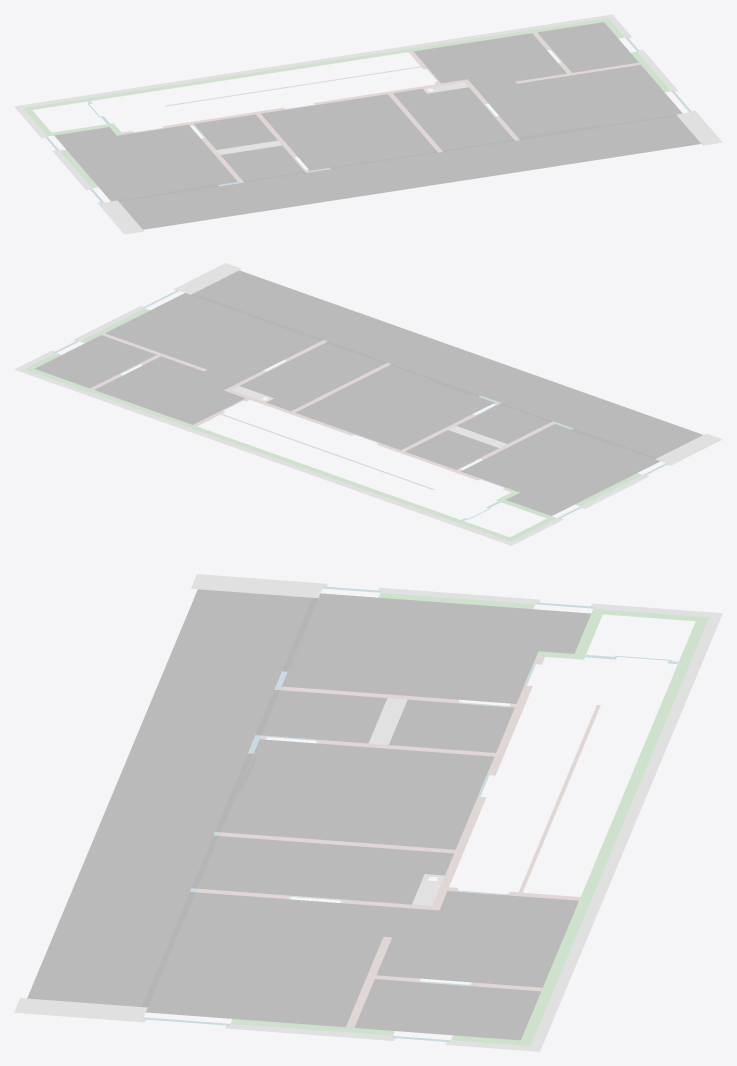
File: floor-496650.glb
The picture shows the model from 3 angles, top to bottom: view 1: azimuth 30°, elevation 25°; view 2: azimuth 150°, elevation 25°; view 3: azimuth 270°, elevation 25°; orthographic projection. The views are drawn at different scales.
Parts seen in each view (by area): view 1: SectionBody_19,de89aea8-538b-4391-9850-51a45f310a7d, SectionBody_28,479ffe48-f63f-4cdc-9a29-5ed8d2618c3d, SectionBody_10,158cad23-91ba-4ef1-ae7e-258570cedbbe, SectionBody_14,beefb470-fe1f-400e-a017-4379c297e920, SectionBody_82,dba8de76-29e1-4d64-a096-d0c128a51ff9, SectionBody_87,0297b300-e6d4-4720-a0ce-df3d1cfc16de, SectionBody_0,5cb63768-c57b-4bab-b736-06cb00baeb3b, SectionBody_41,92661b3a-fcdb-42f5-9150-bac843ed632c, SectionBody_27,92661b3a-fcdb-42f5-9150-bac843ed632c, SectionBody_42,882e43d4-1f59-4184-a4f0-7ba0577b3e58, SectionBody_13,54732cdd-1e45-4bc9-8f35-411170b774ea, SectionBody_4,4ecf0550-45c0-4ded-8eb9-6f0e435f92f0 (+9 smaller); view 2: SectionBody_19,de89aea8-538b-4391-9850-51a45f310a7d, SectionBody_28,479ffe48-f63f-4cdc-9a29-5ed8d2618c3d, SectionBody_10,158cad23-91ba-4ef1-ae7e-258570cedbbe, SectionBody_14,beefb470-fe1f-400e-a017-4379c297e920, SectionBody_82,dba8de76-29e1-4d64-a096-d0c128a51ff9, SectionBody_87,0297b300-e6d4-4720-a0ce-df3d1cfc16de, SectionBody_0,5cb63768-c57b-4bab-b736-06cb00baeb3b, SectionBody_41,92661b3a-fcdb-42f5-9150-bac843ed632c, SectionBody_27,92661b3a-fcdb-42f5-9150-bac843ed632c, SectionBody_13,54732cdd-1e45-4bc9-8f35-411170b774ea, SectionBody_42,882e43d4-1f59-4184-a4f0-7ba0577b3e58, SectionBody_4,4ecf0550-45c0-4ded-8eb9-6f0e435f92f0 (+6 smaller); view 3: SectionBody_19,de89aea8-538b-4391-9850-51a45f310a7d, SectionBody_28,479ffe48-f63f-4cdc-9a29-5ed8d2618c3d, SectionBody_10,158cad23-91ba-4ef1-ae7e-258570cedbbe, SectionBody_14,beefb470-fe1f-400e-a017-4379c297e920, SectionBody_82,dba8de76-29e1-4d64-a096-d0c128a51ff9, SectionBody_87,0297b300-e6d4-4720-a0ce-df3d1cfc16de, SectionBody_0,5cb63768-c57b-4bab-b736-06cb00baeb3b, SectionBody_41,92661b3a-fcdb-42f5-9150-bac843ed632c, SectionBody_27,92661b3a-fcdb-42f5-9150-bac843ed632c, SectionBody_13,54732cdd-1e45-4bc9-8f35-411170b774ea, SectionBody_42,882e43d4-1f59-4184-a4f0-7ba0577b3e58, SectionBody_55,aeb265a0-2cff-4c14-8703-f3e4c57c95e6 (+13 smaller).
Part boxes in pixels (x1=…): SectionBody_19,de89aea8-538b-4391-9850-51a45f310a7d: x1=119, y1=116, x2=700, y2=229; SectionBody_28,479ffe48-f63f-4cdc-9a29-5ed8d2618c3d: x1=477, y1=64, x2=682, y2=138; SectionBody_10,158cad23-91ba-4ef1-ae7e-258570cedbbe: x1=54, y1=124, x2=237, y2=201; SectionBody_14,beefb470-fe1f-400e-a017-4379c297e920: x1=261, y1=94, x2=436, y2=170; SectionBody_82,dba8de76-29e1-4d64-a096-d0c128a51ff9: x1=414, y1=33, x2=566, y2=89; SectionBody_87,0297b300-e6d4-4720-a0ce-df3d1cfc16de: x1=393, y1=87, x2=513, y2=150; SectionBody_0,5cb63768-c57b-4bab-b736-06cb00baeb3b: x1=537, y1=22, x2=638, y2=72; SectionBody_41,92661b3a-fcdb-42f5-9150-bac843ed632c: x1=21, y1=14, x2=614, y2=108; SectionBody_27,92661b3a-fcdb-42f5-9150-bac843ed632c: x1=30, y1=18, x2=610, y2=109; SectionBody_42,882e43d4-1f59-4184-a4f0-7ba0577b3e58: x1=194, y1=114, x2=277, y2=149; SectionBody_13,54732cdd-1e45-4bc9-8f35-411170b774ea: x1=221, y1=145, x2=304, y2=180; SectionBody_4,4ecf0550-45c0-4ded-8eb9-6f0e435f92f0: x1=122, y1=80, x2=464, y2=134; SectionBody_19,de89aea8-538b-4391-9850-51a45f310a7d: x1=193, y1=270, x2=702, y2=457; SectionBody_28,479ffe48-f63f-4cdc-9a29-5ed8d2618c3d: x1=105, y1=293, x2=320, y2=381; SectionBody_10,158cad23-91ba-4ef1-ae7e-258570cedbbe: x1=461, y1=424, x2=659, y2=515; SectionBody_14,beefb470-fe1f-400e-a017-4379c297e920: x1=295, y1=365, x2=494, y2=450; SectionBody_82,dba8de76-29e1-4d64-a096-d0c128a51ff9: x1=95, y1=356, x2=245, y2=424; SectionBody_87,0297b300-e6d4-4720-a0ce-df3d1cfc16de: x1=240, y1=342, x2=384, y2=411; SectionBody_0,5cb63768-c57b-4bab-b736-06cb00baeb3b: x1=35, y1=335, x2=156, y2=388; SectionBody_41,92661b3a-fcdb-42f5-9150-bac843ed632c: x1=14, y1=367, x2=509, y2=543; SectionBody_27,92661b3a-fcdb-42f5-9150-bac843ed632c: x1=24, y1=367, x2=509, y2=539; SectionBody_13,54732cdd-1e45-4bc9-8f35-411170b774ea: x1=456, y1=404, x2=550, y2=443; SectionBody_42,882e43d4-1f59-4184-a4f0-7ba0577b3e58: x1=405, y1=430, x2=498, y2=469; SectionBody_4,4ecf0550-45c0-4ded-8eb9-6f0e435f92f0: x1=228, y1=390, x2=514, y2=492; SectionBody_19,de89aea8-538b-4391-9850-51a45f310a7d: x1=27, y1=589, x2=312, y2=1006; SectionBody_28,479ffe48-f63f-4cdc-9a29-5ed8d2618c3d: x1=146, y1=892, x2=395, y2=1027; SectionBody_10,158cad23-91ba-4ef1-ae7e-258570cedbbe: x1=281, y1=593, x2=590, y2=703; SectionBody_14,beefb470-fe1f-400e-a017-4379c297e920: x1=221, y1=739, x2=494, y2=849; SectionBody_82,dba8de76-29e1-4d64-a096-d0c128a51ff9: x1=376, y1=891, x2=578, y2=987; SectionBody_87,0297b300-e6d4-4720-a0ce-df3d1cfc16de: x1=197, y1=836, x2=453, y2=904; SectionBody_0,5cb63768-c57b-4bab-b736-06cb00baeb3b: x1=354, y1=979, x2=540, y2=1040; SectionBody_41,92661b3a-fcdb-42f5-9150-bac843ed632c: x1=528, y1=617, x2=720, y2=1051; SectionBody_27,92661b3a-fcdb-42f5-9150-bac843ed632c: x1=519, y1=621, x2=706, y2=1045; SectionBody_13,54732cdd-1e45-4bc9-8f35-411170b774ea: x1=261, y1=690, x2=387, y2=743; SectionBody_42,882e43d4-1f59-4184-a4f0-7ba0577b3e58: x1=389, y1=699, x2=514, y2=752; SectionBody_55,aeb265a0-2cff-4c14-8703-f3e4c57c95e6: x1=14, y1=998, x2=147, y2=1022.
Bounding box in the file's own units: 19203 × 0 × 12040.
